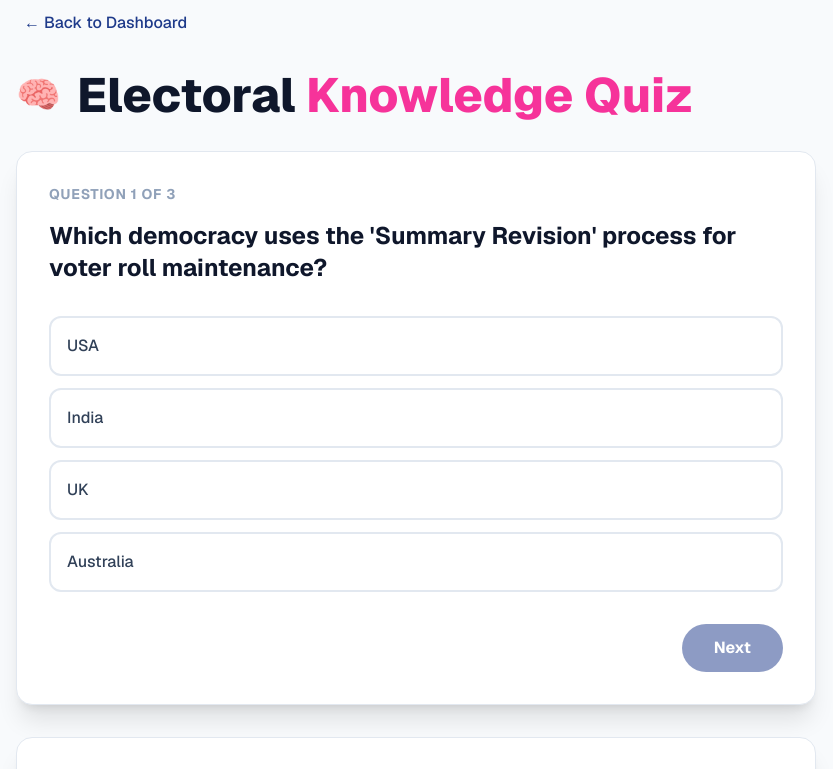
it: Quiz Component › renders interactive option buttons and a next button
Expected: the button "Next" is disabled, [682,624,783,672]
Note: Select an option enables the next button
Click the button "USA". click: point(83, 346)
box: [49,316,783,376]
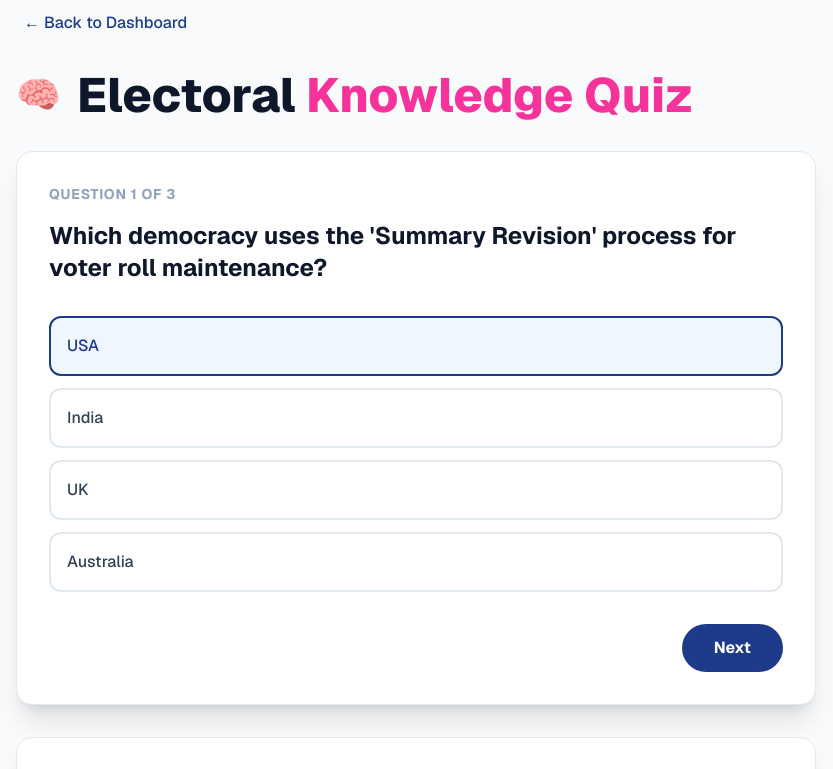
Now the button "Next" is enabled, box [682,624,783,672]
